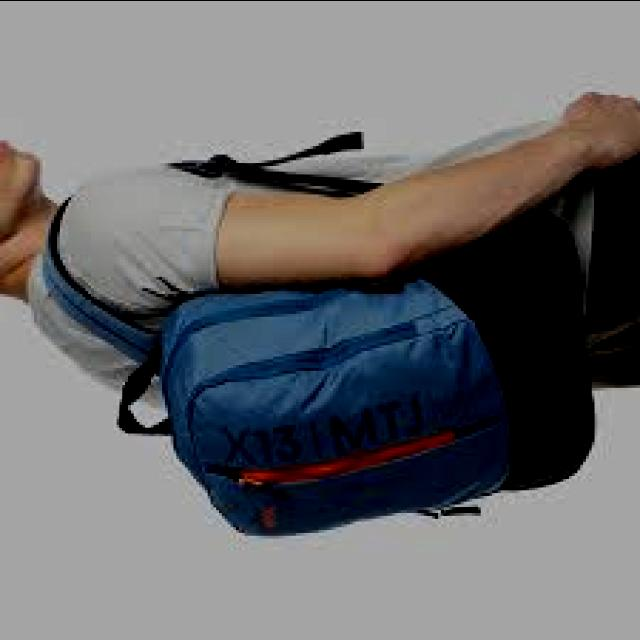backpack: (41, 144, 595, 542)
